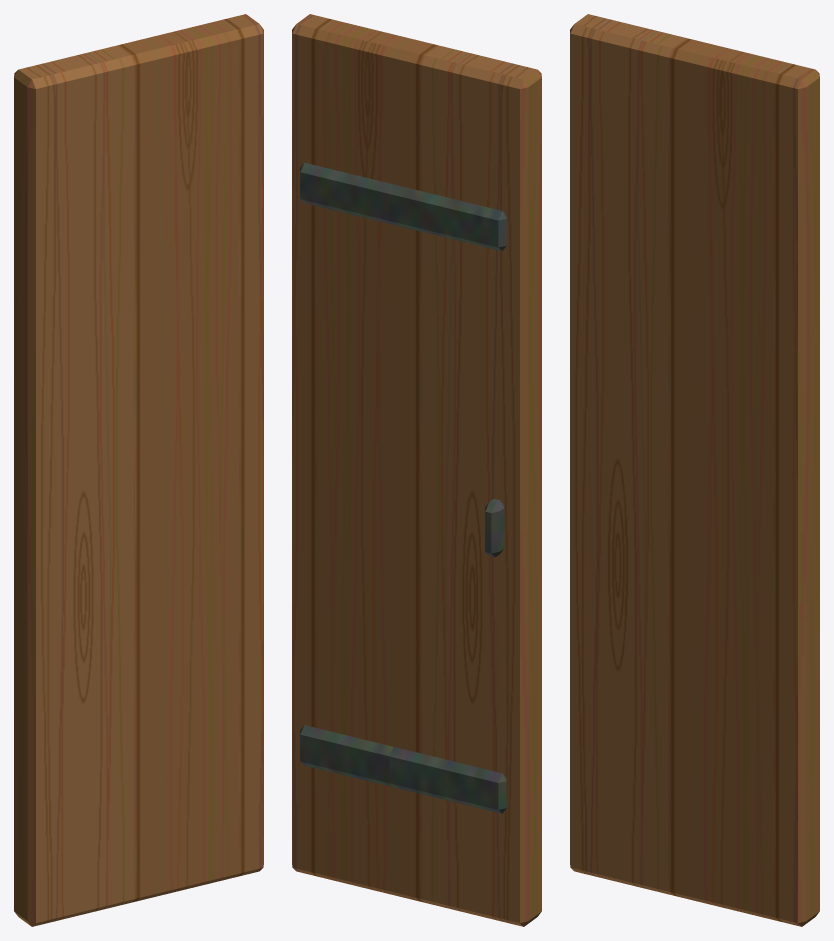
Rendered from SM_HH_V2_DoorLeaf.fbx.
3 views of the same model, side by side, from view 1: azimuth 30°, elevation 25°; view 2: azimuth 150°, elevation 25°; view 3: azimuth 330°, elevation 25° (orthographic).
Parts seen in each view (by area): view 1: HH_V2_DoorLeaf; view 2: HH_V2_DoorLeaf; view 3: HH_V2_DoorLeaf.
Boxes of the visible parts, x1,y1,x2,y2 form: HH_V2_DoorLeaf: (14, 14, 263, 926); HH_V2_DoorLeaf: (292, 14, 541, 926); HH_V2_DoorLeaf: (570, 14, 819, 926).
Bounding box in the file's own units: 0.145 × 0.6 × 2.06.
